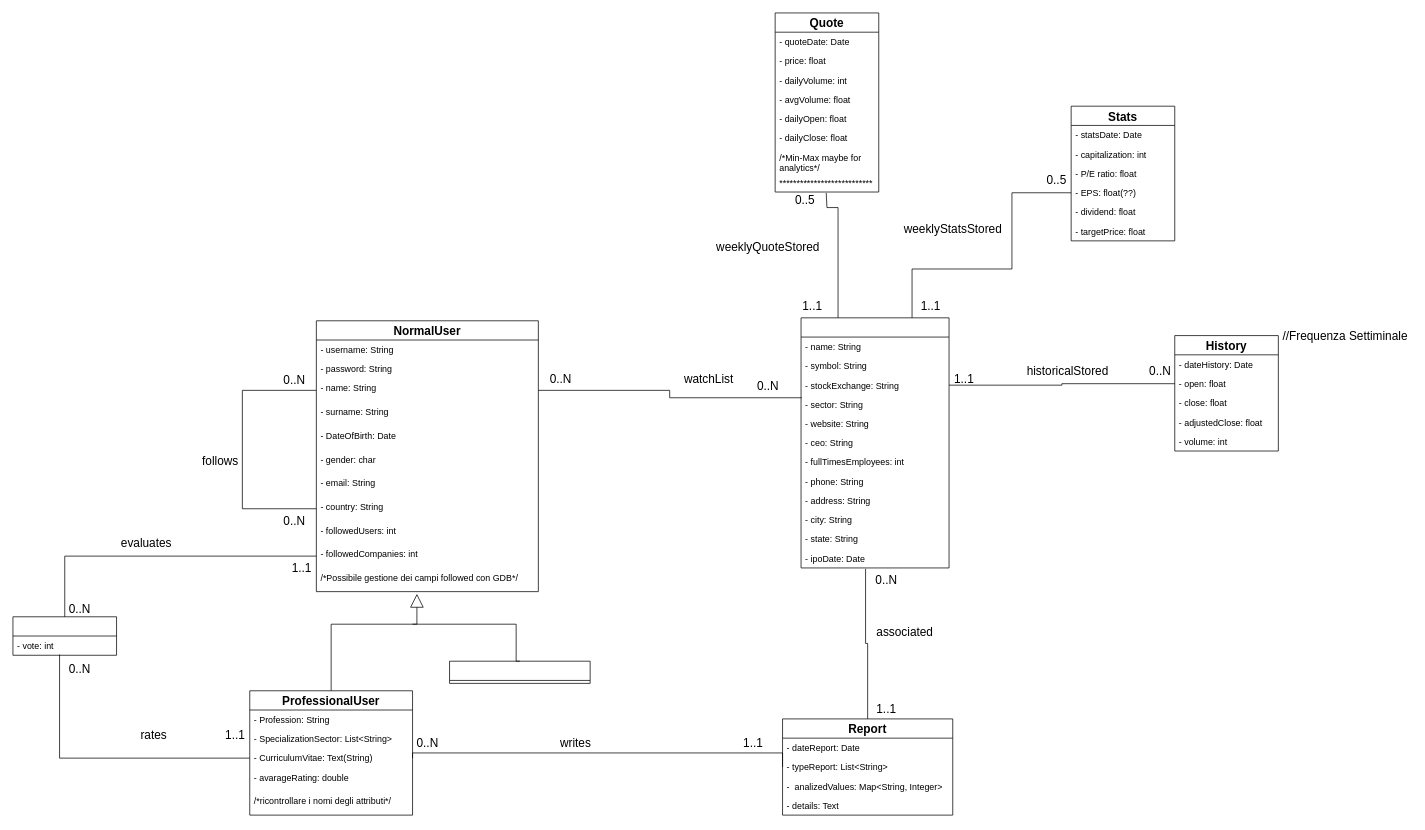
Image size: 1425x830. Some labels were removed from this diagram. The shapes that lost their labels are listed below. From the top down, each one's box as (x1, y1, x2, y2) in pixels, then its label:
(800, 317, 949, 568): Company
(12, 616, 117, 655): Rating
(449, 660, 590, 683): Administrator
